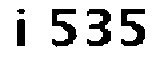3: (82, 6, 115, 49)
5: (46, 7, 79, 51), (119, 5, 148, 50)
i: (12, 4, 31, 56)
